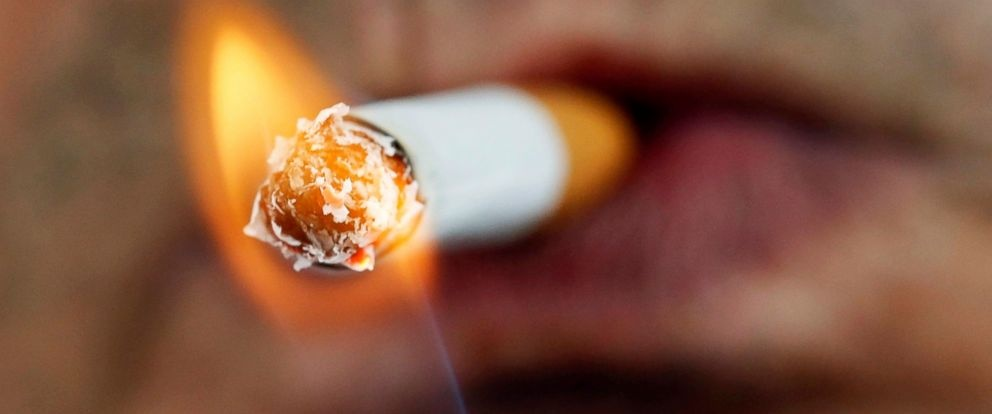sigaretta: (205, 75, 654, 236)
